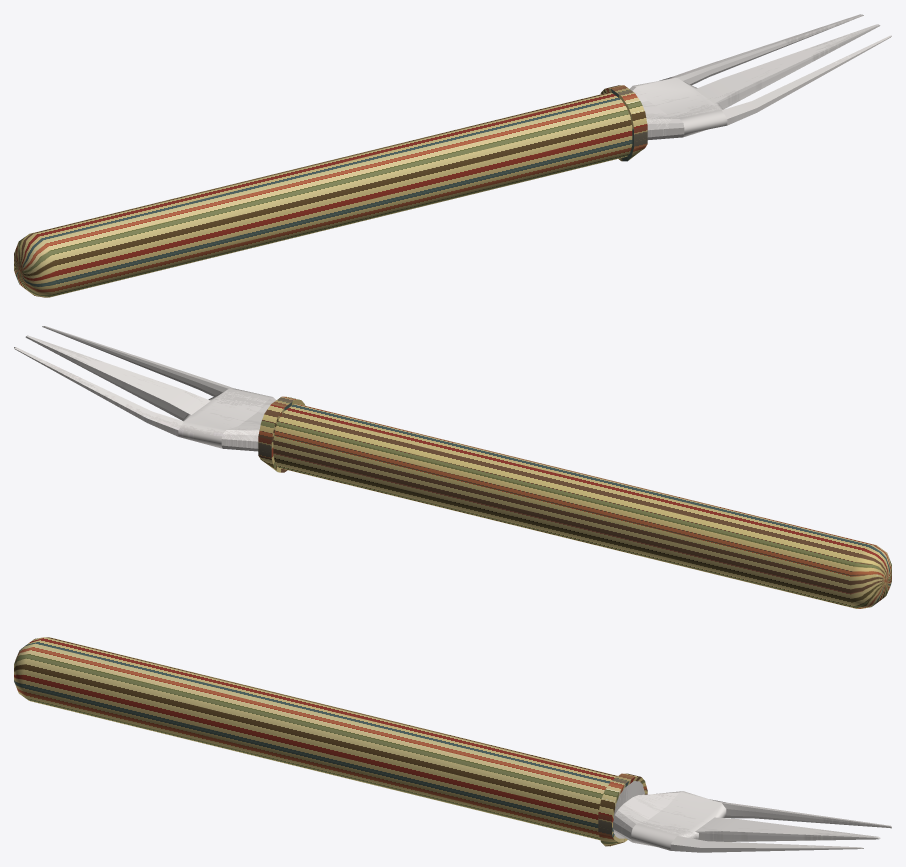
The model's file is fork.fbx.
The picture shows the model from 3 angles, top to bottom: view 1: azimuth 30°, elevation 25°; view 2: azimuth 150°, elevation 25°; view 3: azimuth 330°, elevation 25°; orthographic projection.
Parts seen in each view (by area): view 1: pCube7; view 2: pCube7; view 3: pCube7.
Boxes of the visible parts, box(x1,y1,x2,y2) form: pCube7: box(14, 14, 891, 297); pCube7: box(14, 326, 891, 608); pCube7: box(14, 637, 891, 852).
Size of the model in its own units: 3.15 by 0.2405 by 0.3612.
